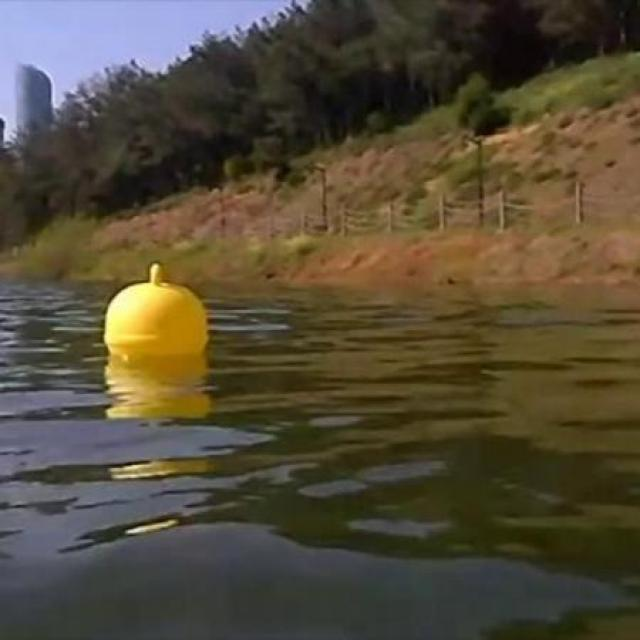buoy: (108, 263, 209, 354)
